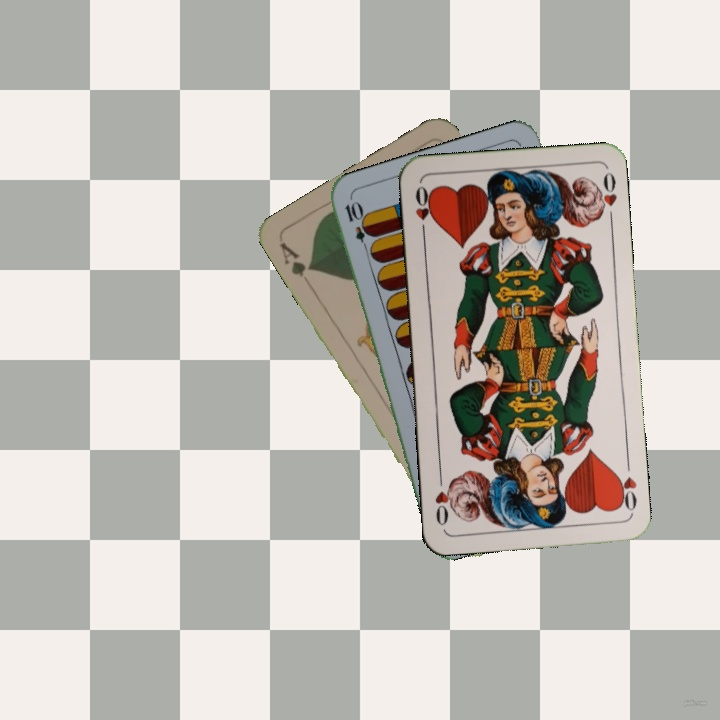E10: (341, 197, 373, 256)
GA: (275, 237, 316, 280)
HO: (612, 457, 639, 516), (411, 181, 435, 239)
